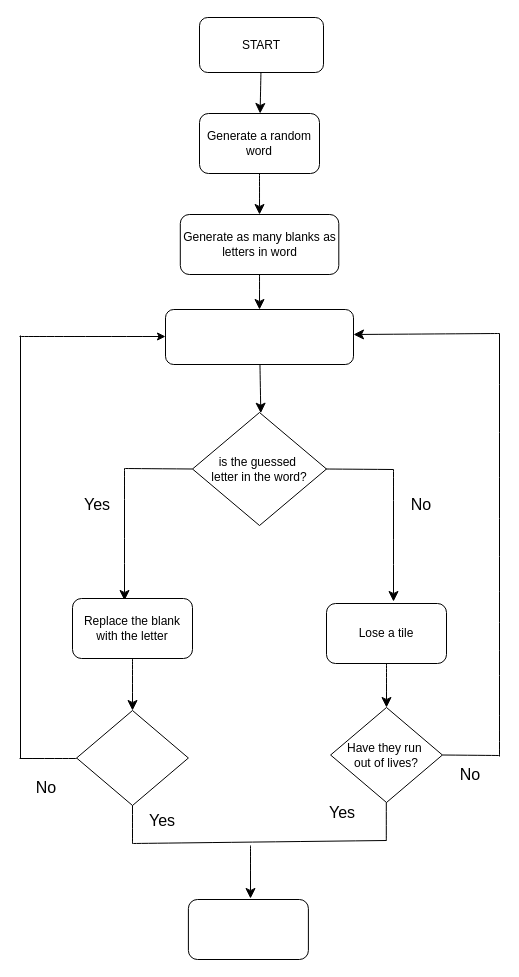
Some shapes in this 519 by 977 pixel diagram are drawn without their labels. Here are the shapes that lost their labels. From the top down, the centre of each, then its label:
At (259,336): "Ask the user to guess a letter".
At (132,758): "Are all the blanks filled?".
At (247,929): "GAME OVER".
